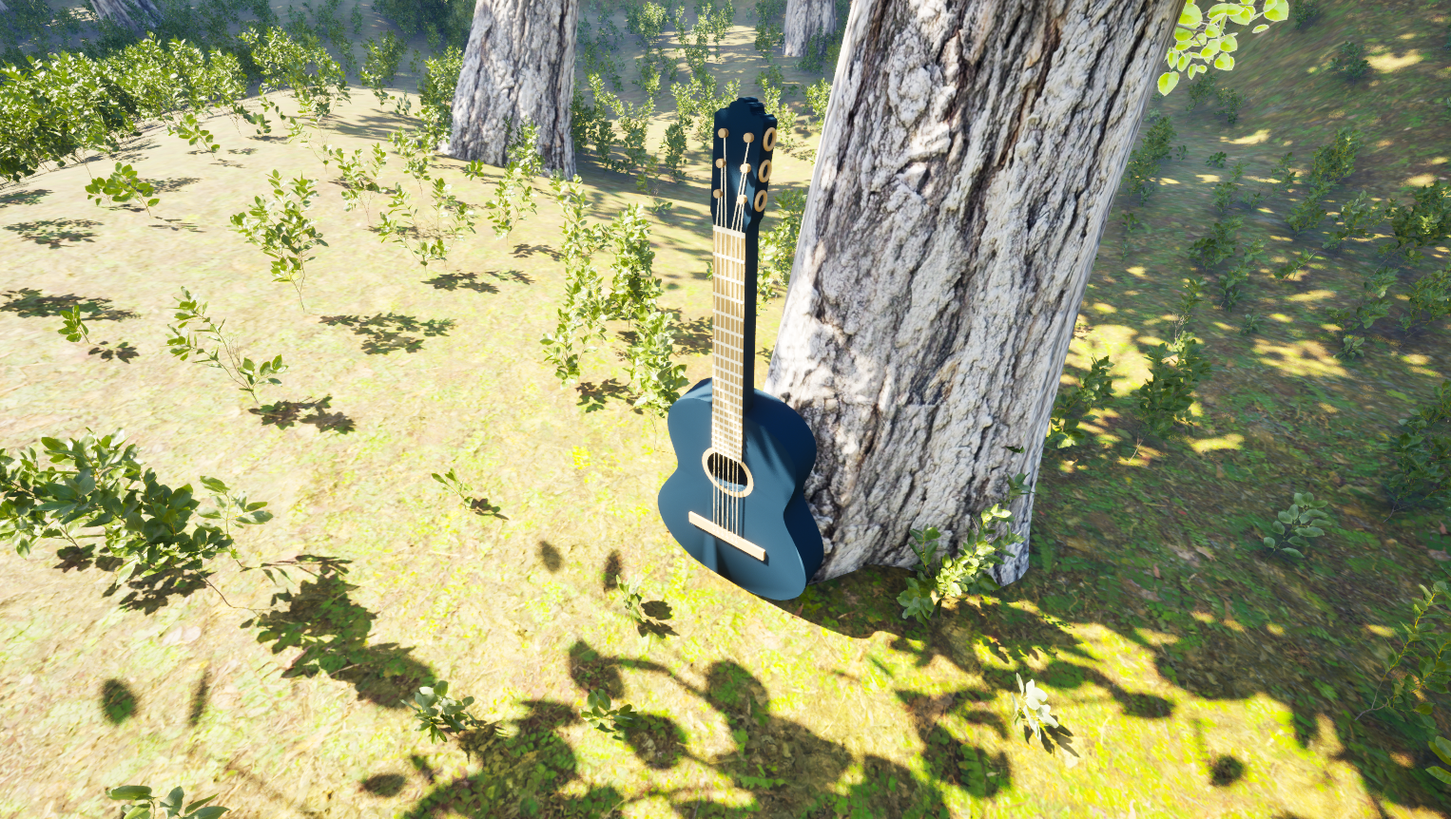Guitar: (611, 73, 896, 624)
